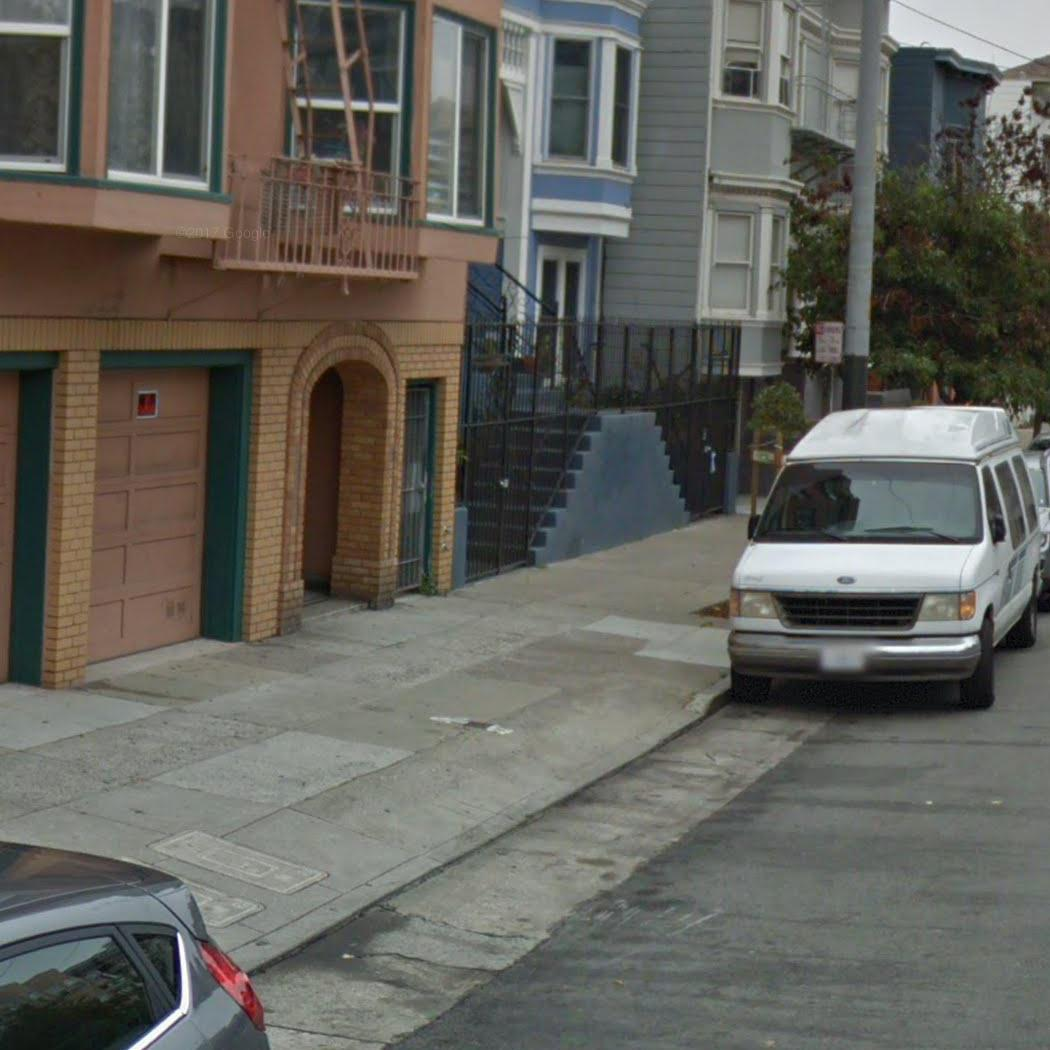No Parking: (813, 321, 846, 366)
